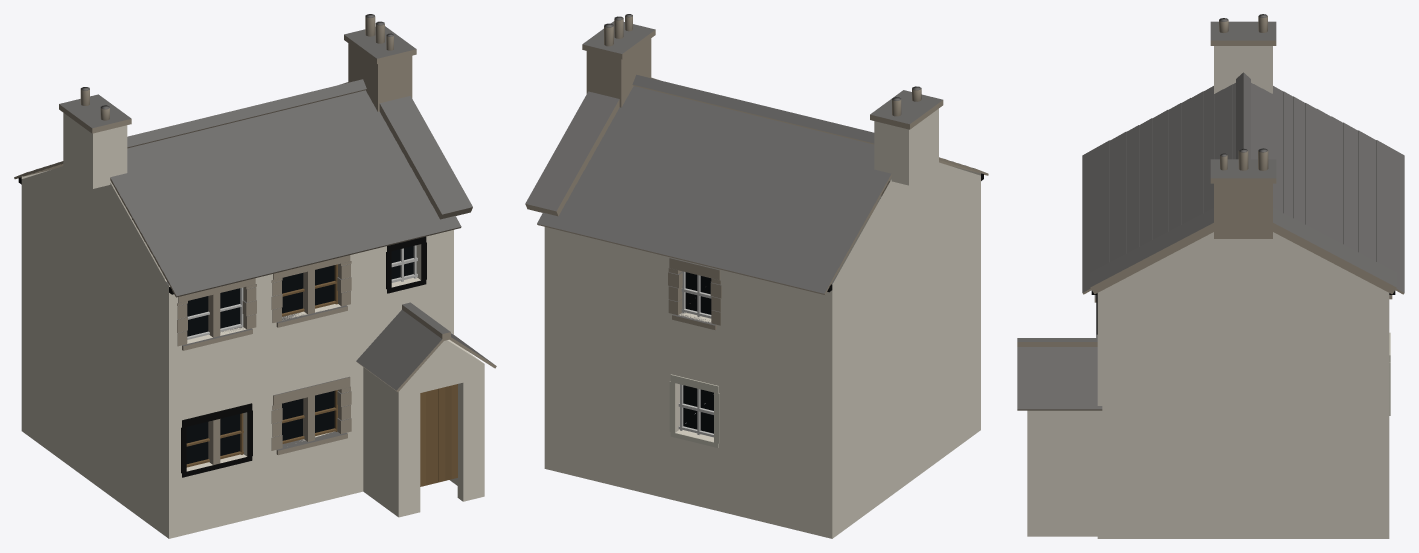
The model's file is context.dales.house_04.glb.
The picture shows the model from 3 angles, left to right: view 1: azimuth 30°, elevation 25°; view 2: azimuth 150°, elevation 25°; view 3: azimuth 270°, elevation 25°; orthographic projection.
Visible parts, largest first — view 1: main__render_ddc, main__slate_666, main__stone_a98, main__glass_dark, main__paint_764, main__rubber, main__paint_ccc, main__paint_754, main__paint_864; view 2: main__render_ddc, main__slate_666, main__stone_a98, main__glass_dark, main__paint_ccb, main__paint_ccc; view 3: main__render_ddc, main__slate_666, main__stone_a98.
Part boxes in pixels (bbox=[...]): main__render_ddc: bbox=[21, 113, 484, 538]; main__slate_666: bbox=[28, 14, 495, 450]; main__stone_a98: bbox=[14, 16, 496, 464]; main__glass_dark: bbox=[186, 246, 413, 463]; main__paint_764: bbox=[186, 264, 457, 485]; main__rubber: bbox=[18, 177, 426, 477]; main__paint_ccc: bbox=[187, 245, 417, 339]; main__paint_754: bbox=[445, 385, 451, 480]; main__paint_864: bbox=[420, 392, 425, 486]; main__render_ddc: bbox=[544, 108, 980, 538]; main__slate_666: bbox=[525, 14, 974, 325]; main__stone_a98: bbox=[525, 15, 988, 329]; main__glass_dark: bbox=[683, 272, 713, 433]; main__paint_ccb: bbox=[669, 374, 719, 447]; main__paint_ccc: bbox=[678, 271, 713, 437]; main__render_ddc: bbox=[1027, 46, 1389, 538]; main__slate_666: bbox=[1017, 14, 1404, 409]; main__stone_a98: bbox=[1017, 16, 1404, 410].
Size of the model in its own units: 7.55 by 8.72 by 7.88.
